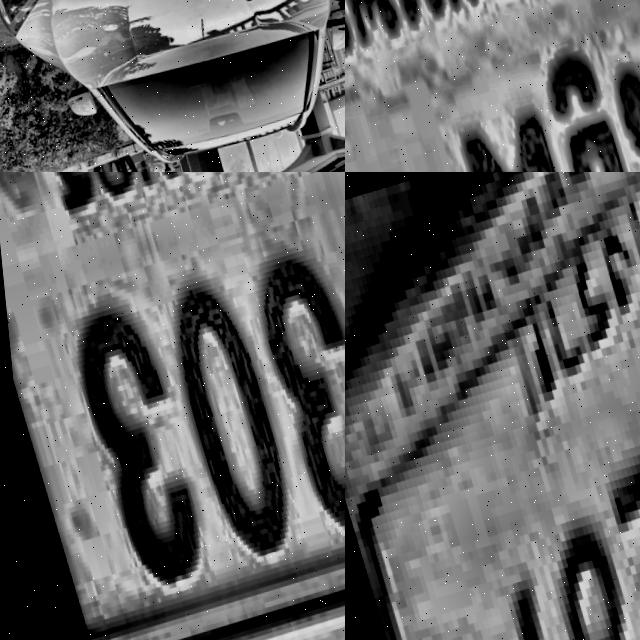license-plate: (0, 172, 345, 640), (345, 172, 640, 640), (345, 0, 640, 172)
